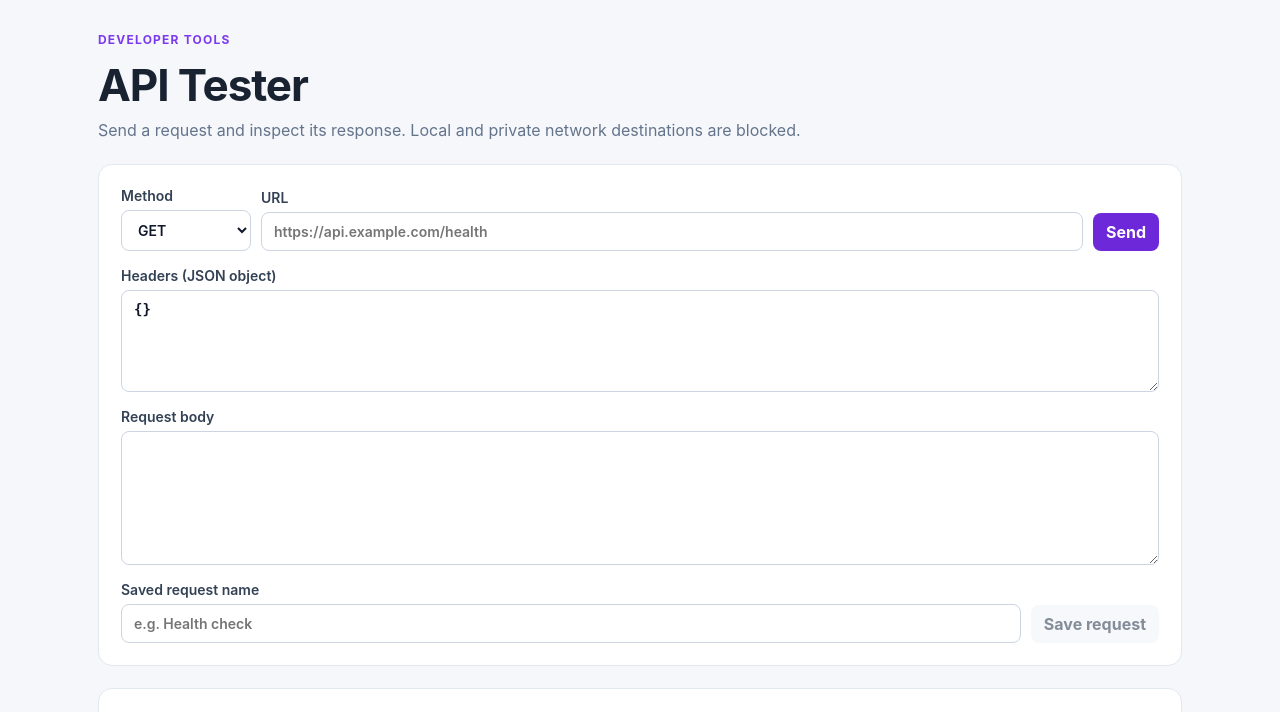
API Tester page › shows a blocked URL error returned by the server
The width and height of the screenshot is (1280, 712).
Type "http://127.0.0.1" into the field labelled "URL". click: [672, 231]
box: [261,212,1083,251]
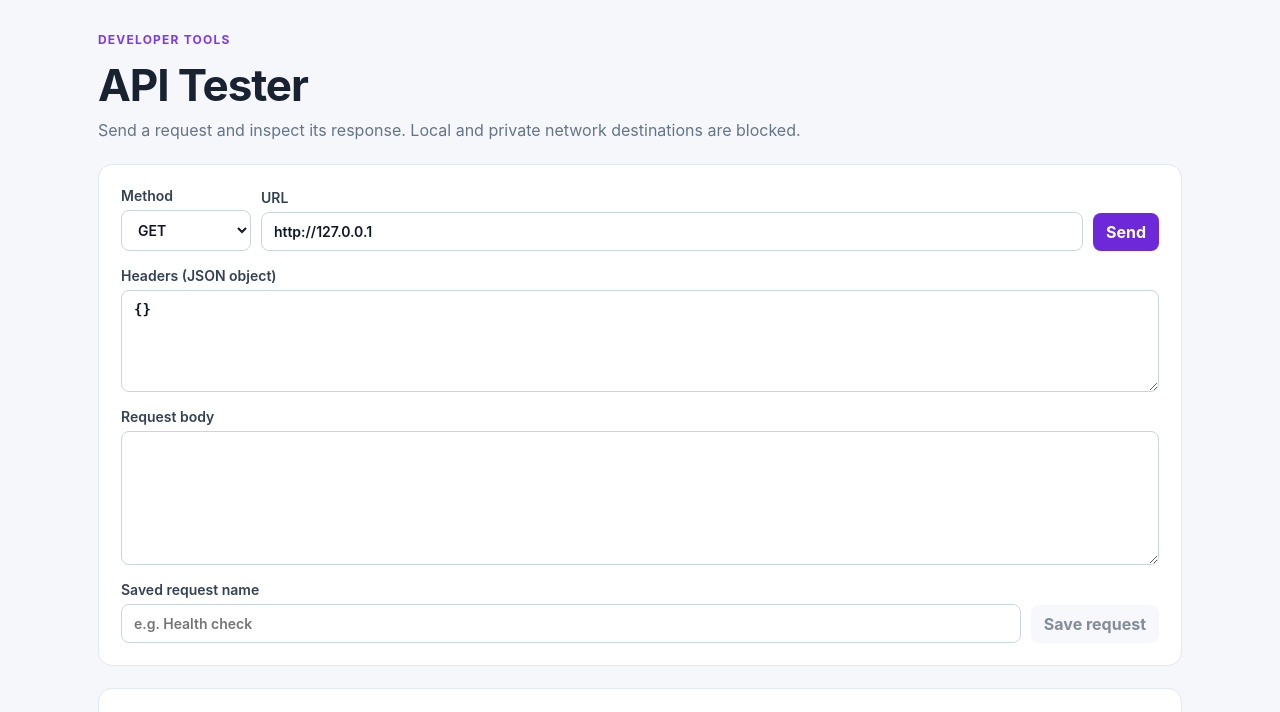
Click the button "Send". click: [1126, 232]
box: [1093,213,1159,251]
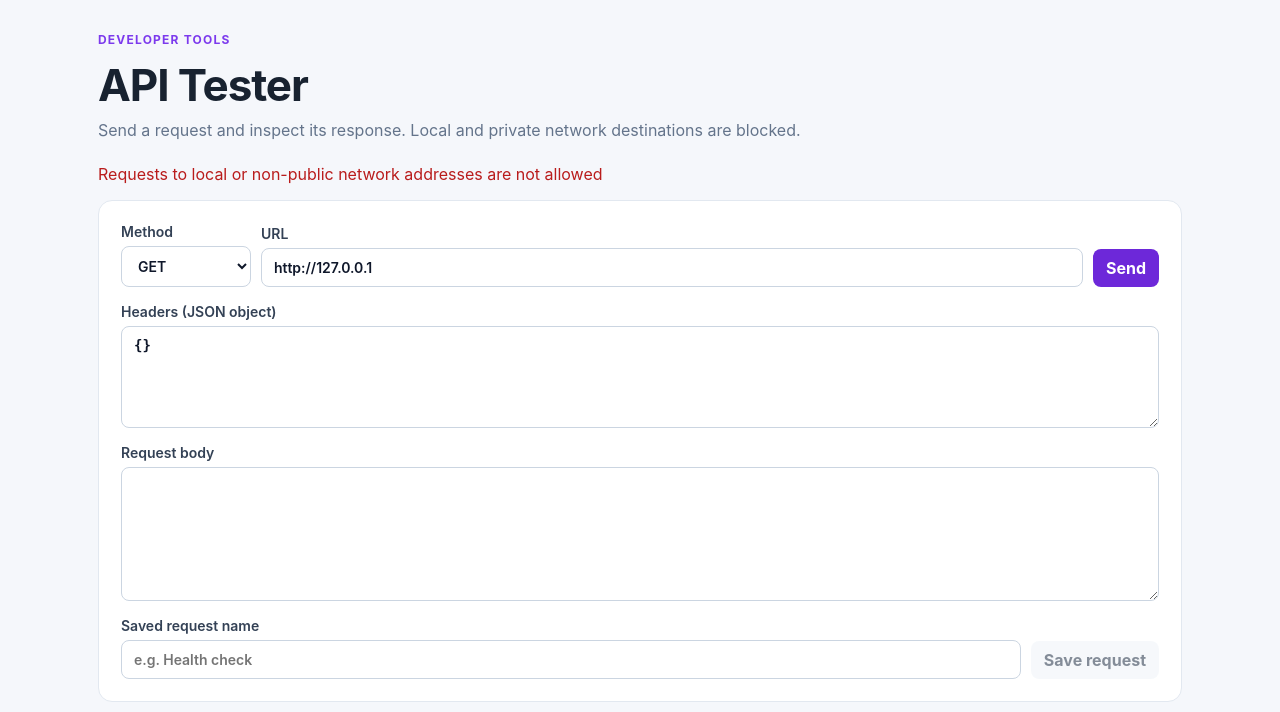
Now the message reads "Requests to local or non-public network addresses are not allowed", box [98,164,602,184]
